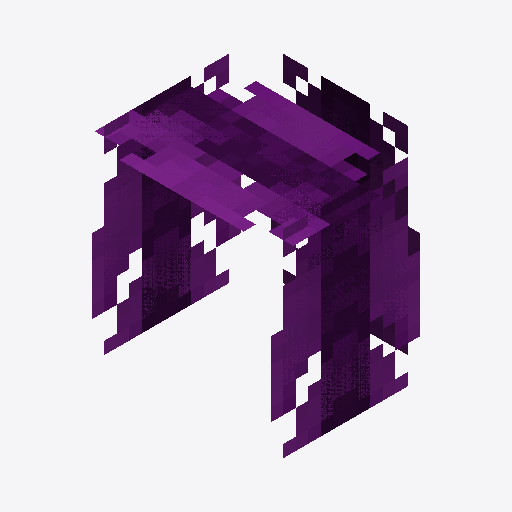
A Minecraft block model of 4 cuboids, rendered isometrically (azimuth 45°, elevation 35.3°) with the resource pack's own textures.
Visible parts, largest first — element 3, element 1, element 4, element 2.
Part boxes in pixels (bbox=[...]): element 3: bbox=[271, 157, 419, 457]; element 1: bbox=[95, 81, 379, 245]; element 4: bbox=[92, 54, 240, 354]; element 2: bbox=[271, 54, 419, 354].
Bounding box in the file's own units: 16 × 16 × 16.